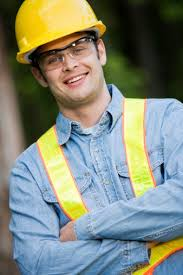Person_wearing_helmet: (10, 0, 107, 64)
